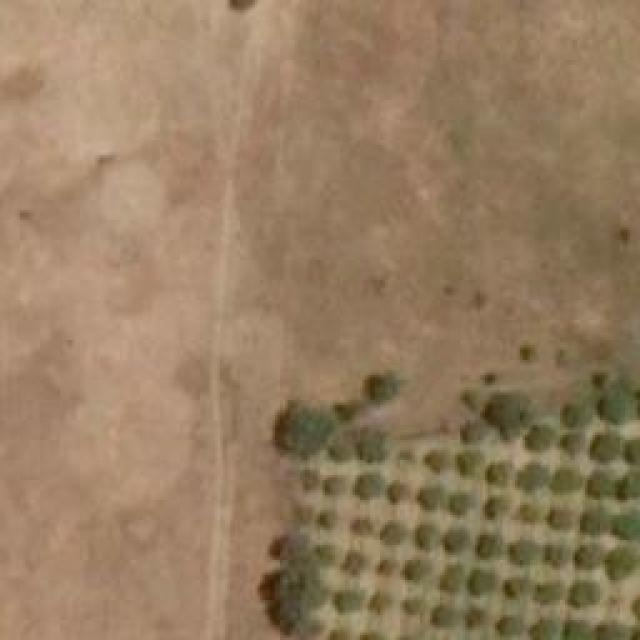Tree: (263, 555, 328, 633), (275, 405, 333, 455), (488, 390, 528, 438), (353, 427, 386, 465), (603, 385, 636, 423), (590, 430, 620, 465), (363, 375, 396, 405), (568, 580, 601, 610), (578, 503, 608, 536), (380, 518, 408, 551), (612, 510, 640, 543), (585, 465, 610, 500), (340, 547, 370, 575), (515, 462, 545, 490), (553, 467, 583, 495), (607, 548, 635, 578), (415, 485, 448, 510), (437, 565, 465, 593), (475, 530, 503, 558), (540, 540, 568, 568), (480, 493, 505, 523), (578, 543, 608, 568), (273, 535, 303, 560), (508, 537, 533, 565), (548, 500, 573, 528), (525, 425, 553, 450), (458, 423, 488, 446), (563, 400, 586, 430), (455, 445, 478, 473), (358, 470, 381, 498), (310, 543, 338, 566), (415, 523, 440, 548), (470, 570, 495, 595), (615, 475, 640, 500), (518, 340, 542, 365), (622, 435, 640, 468), (393, 448, 416, 473), (453, 490, 476, 515), (400, 558, 423, 583), (333, 590, 358, 613), (513, 500, 538, 523), (495, 613, 520, 636), (527, 620, 555, 640), (560, 620, 588, 640), (445, 530, 468, 553), (428, 605, 451, 628), (560, 433, 583, 456), (323, 475, 346, 495), (485, 463, 508, 483), (373, 555, 393, 578), (593, 622, 618, 640), (462, 388, 480, 411), (345, 515, 368, 533), (315, 510, 338, 528), (398, 595, 421, 613), (533, 585, 556, 603), (425, 450, 445, 470), (463, 608, 483, 628), (368, 593, 388, 613), (297, 470, 315, 490), (503, 577, 523, 595), (480, 370, 500, 385), (388, 483, 403, 503)
